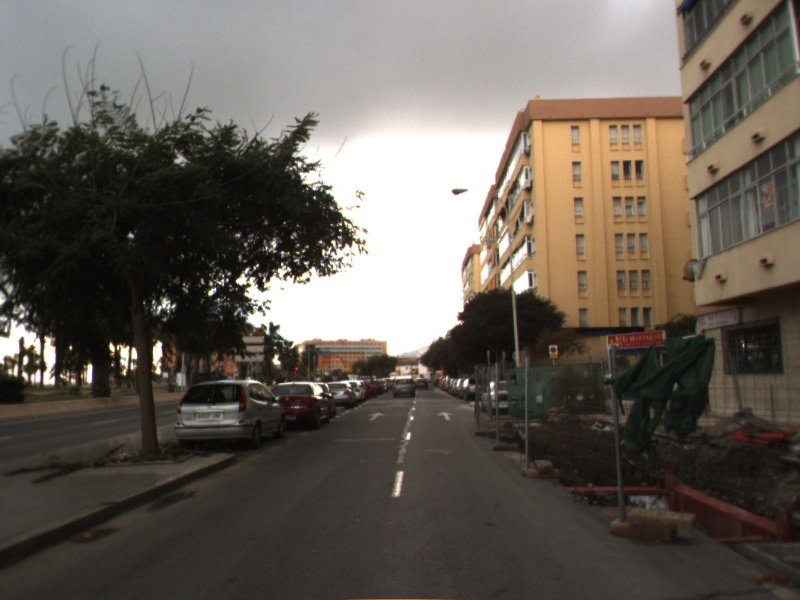STRAIGHT: (367, 411, 387, 422), (436, 410, 455, 421)
